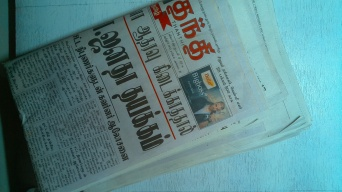p: (6, 1, 311, 192)
